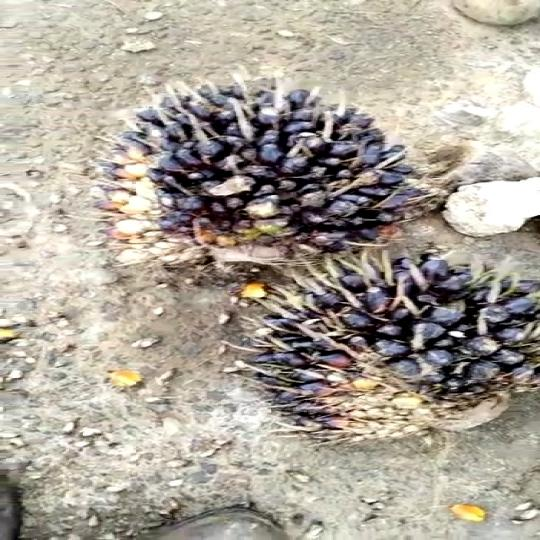mentah: (90, 85, 420, 262), (274, 264, 540, 456)
